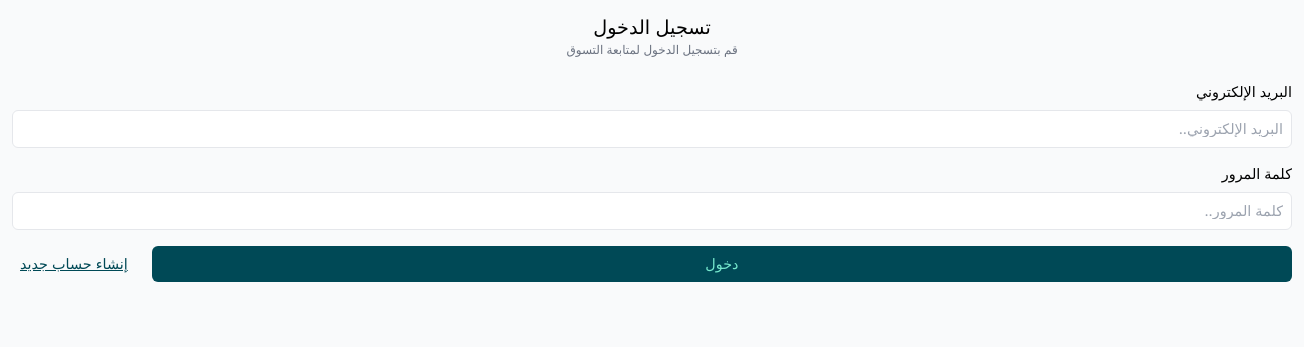
Sign In Form Validation › displays error messages with empty data
The width and height of the screenshot is (1304, 347).
Click the button "دخول" at (722, 264), box left=152, top=246, right=1292, bottom=282
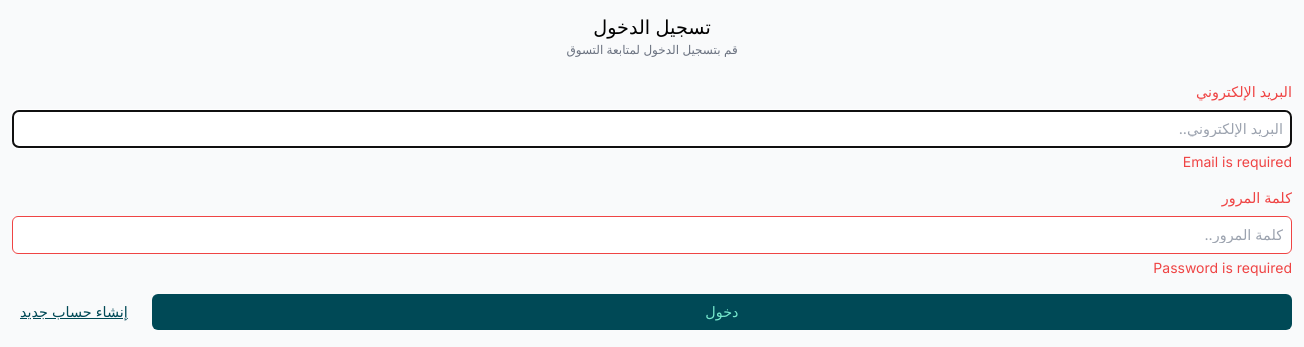
Check: the text "Email is required" is shown, box left=1183, top=153, right=1292, bottom=170
Check: the text "Password is required" is shown, box left=1153, top=259, right=1292, bottom=276
